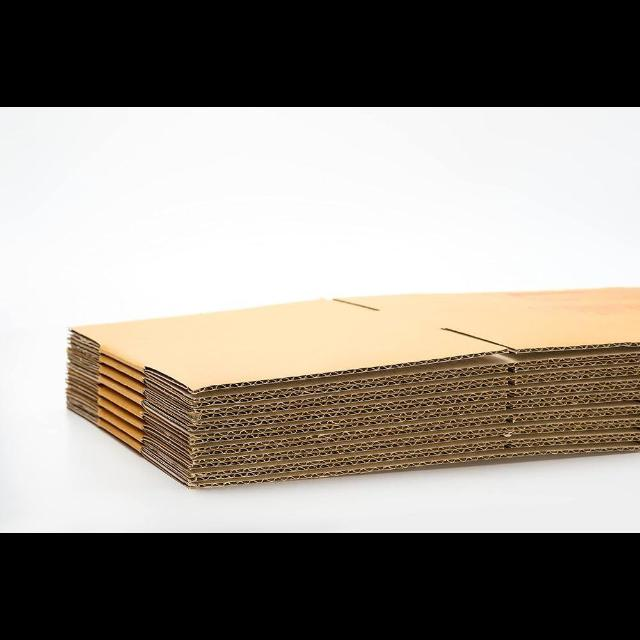papelão: (65, 289, 640, 493)
